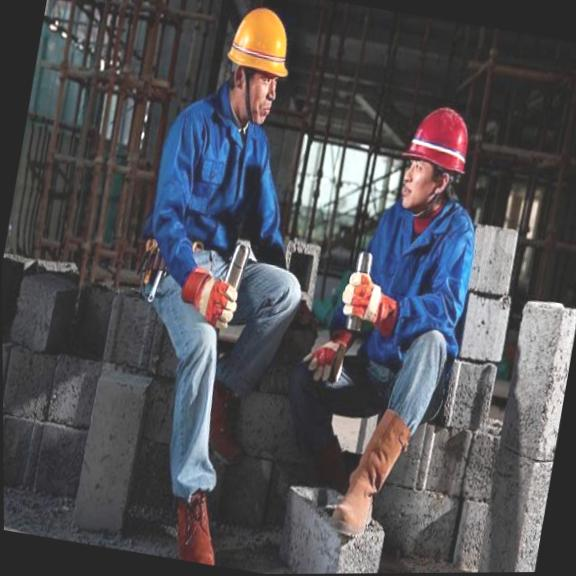no_safety_vest: (140, 85, 291, 278), (331, 190, 485, 361)
